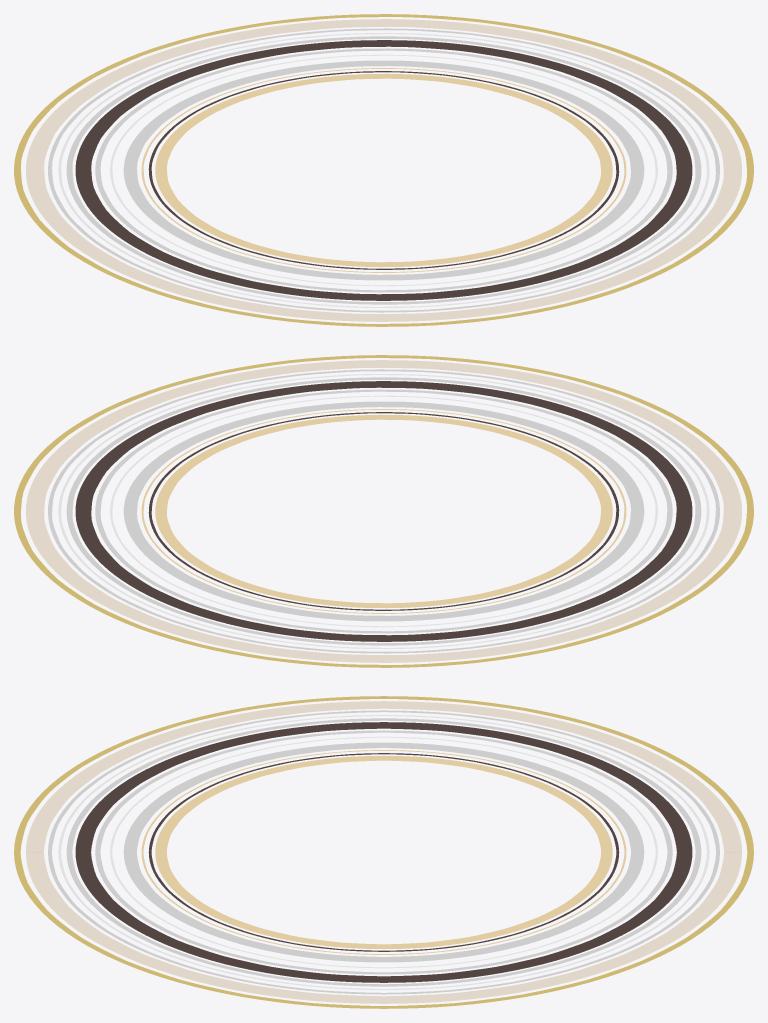
The model's file is Ring.glb.
The picture shows the model from 3 angles, top to bottom: view 1: azimuth 30°, elevation 25°; view 2: azimuth 150°, elevation 25°; view 3: azimuth 270°, elevation 25°; orthographic projection.
Visible parts, largest first — view 1: Ring.001, Ring.002, Ring.003, RingExterno, RingInterno, RingExterno.002, RingExterno.001, Ring.004, RingDelgado, RingDelgado.002, Ring, RingDelgado.001; view 2: Ring.001, Ring.002, Ring.003, RingExterno, RingInterno, RingExterno.002, RingExterno.001, Ring.004, RingDelgado, RingDelgado.002, Ring, RingDelgado.001; view 3: Ring.001, Ring.002, Ring.003, RingExterno, RingInterno, RingExterno.002, RingExterno.001, Ring.004, RingDelgado, RingDelgado.002, Ring, RingDelgado.001.
Boxes of the visible parts, x1,y1,x2,y2 form: Ring.001: (26, 19, 741, 321); Ring.002: (75, 40, 692, 300); Ring.003: (123, 60, 644, 280); RingExterno: (14, 14, 753, 326); RingInterno: (155, 73, 612, 267); RingExterno.002: (66, 36, 701, 304); RingExterno.001: (95, 48, 672, 292); Ring.004: (48, 28, 719, 312); RingDelgado: (58, 33, 709, 307); RingDelgado.002: (110, 54, 657, 286); Ring: (148, 71, 619, 269); RingDelgado.001: (141, 68, 626, 272); Ring.001: (26, 360, 741, 662); Ring.002: (75, 381, 692, 641); Ring.003: (123, 401, 644, 621); RingExterno: (14, 355, 753, 667); RingInterno: (155, 414, 612, 608); RingExterno.002: (66, 377, 701, 645); RingExterno.001: (95, 389, 672, 633); Ring.004: (48, 369, 719, 653); RingDelgado: (58, 374, 709, 648); RingDelgado.002: (110, 395, 657, 627); Ring: (148, 412, 619, 610); RingDelgado.001: (141, 409, 626, 613); Ring.001: (26, 701, 741, 1003); Ring.002: (75, 722, 692, 982); Ring.003: (123, 742, 644, 962); RingExterno: (14, 696, 753, 1008); RingInterno: (155, 755, 612, 949); RingExterno.002: (66, 718, 701, 986); RingExterno.001: (95, 730, 672, 974); Ring.004: (48, 710, 719, 994); RingDelgado: (58, 715, 709, 989); RingDelgado.002: (110, 736, 657, 968); Ring: (148, 753, 619, 951); RingDelgado.001: (141, 750, 626, 954).
Size of the model in its own units: 2 by 0 by 2.
